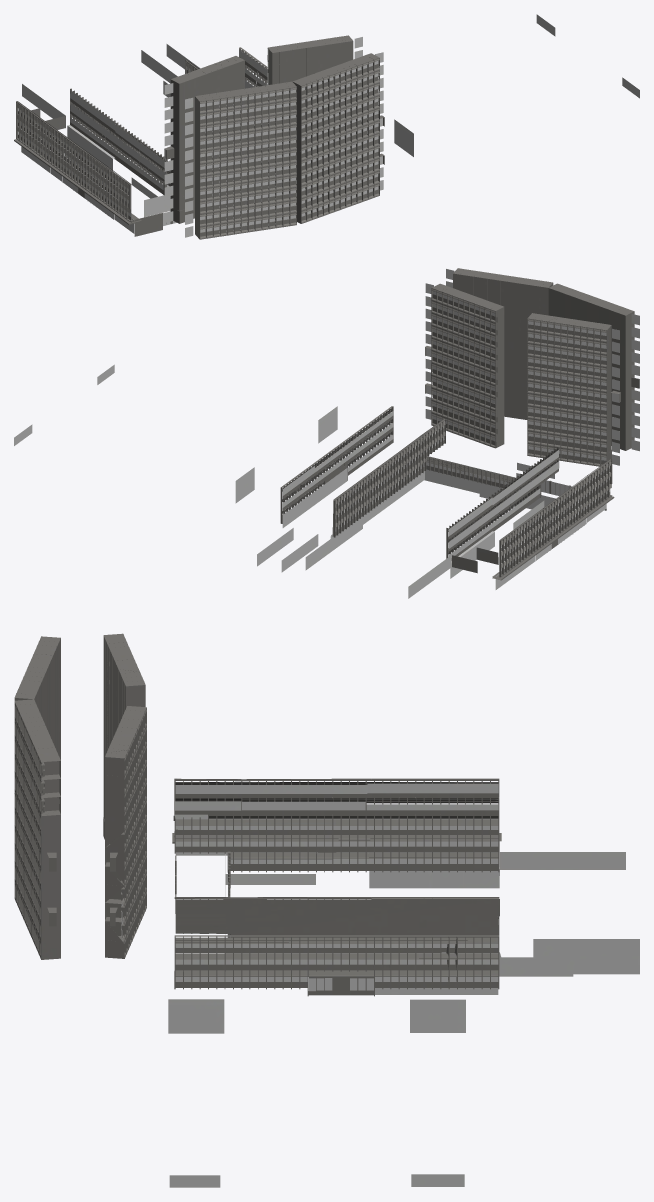
File: frame-raw-14.glb
The picture shows the model from 3 angles, top to bottom: view 1: azimuth 30°, elevation 25°; view 2: azimuth 150°, elevation 25°; view 3: azimuth 270°, elevation 25°; orthographic projection. The views are drawn at different scales.
Visible parts, largest first — view 1: frame raw.005; view 2: frame raw.005; view 3: frame raw.005.
Part boxes in pixels (x1,y1,x2,y2): frame raw.005: (14,14,639,239); frame raw.005: (14,268,639,598); frame raw.005: (14,633,639,1187).
Bounding box in the file's own units: 11.03 × 3.44 × 8.18.
1 material, 1 textured.
